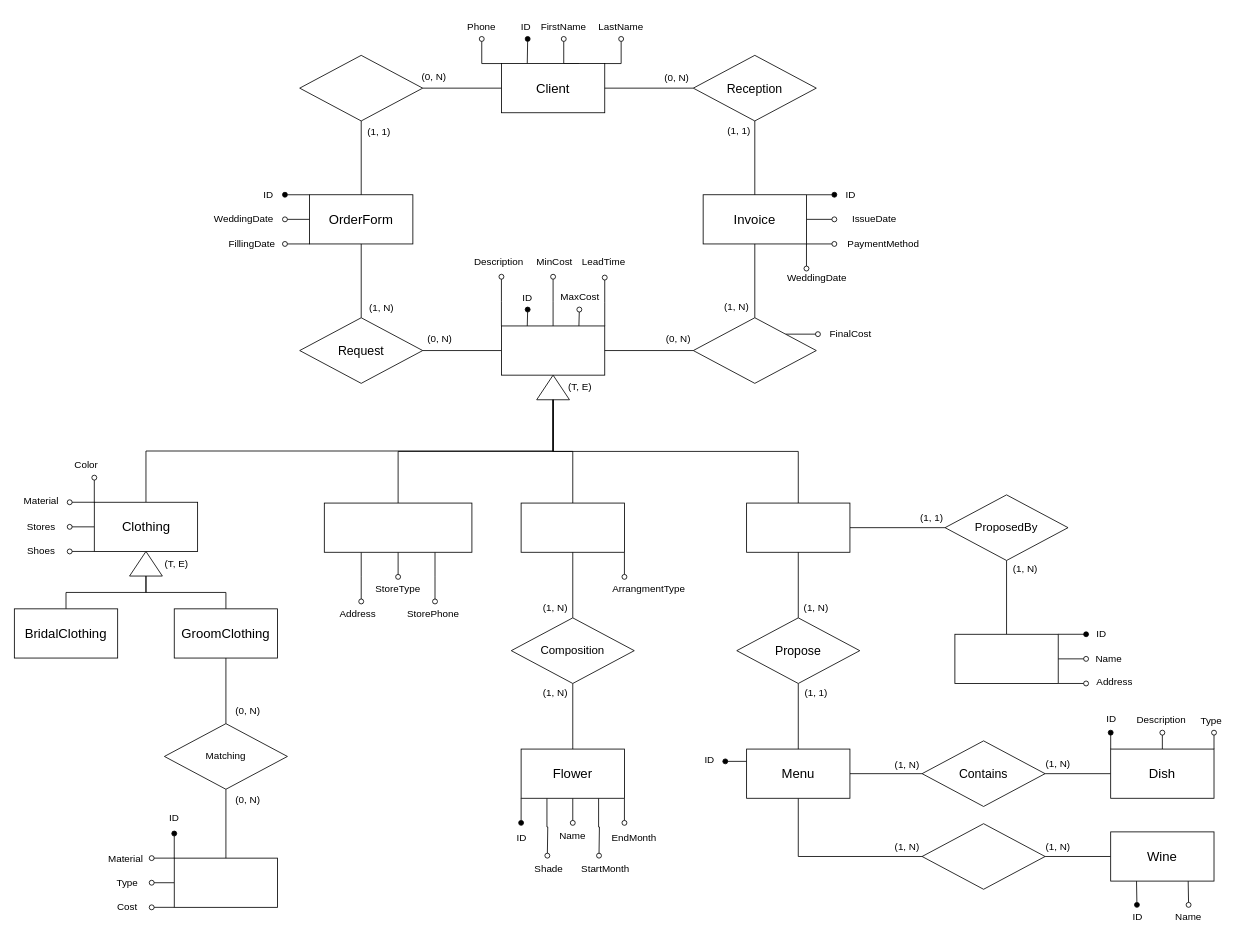
This 1251x943 diagram has some shape labels left out. The box of each missing label's shape, as (x1, y1, x2, y2) in pixels:
Accessory: (173, 857, 278, 907)
Catering: (746, 502, 850, 552)
Compilation: (299, 55, 423, 121)
FlowerService: (520, 502, 624, 552)
Offers: (921, 823, 1045, 889)
Provision: (692, 317, 816, 383)
Restaurant: (954, 633, 1058, 683)
Service: (501, 325, 605, 375)
WeddingRegistryStore: (323, 502, 472, 552)
